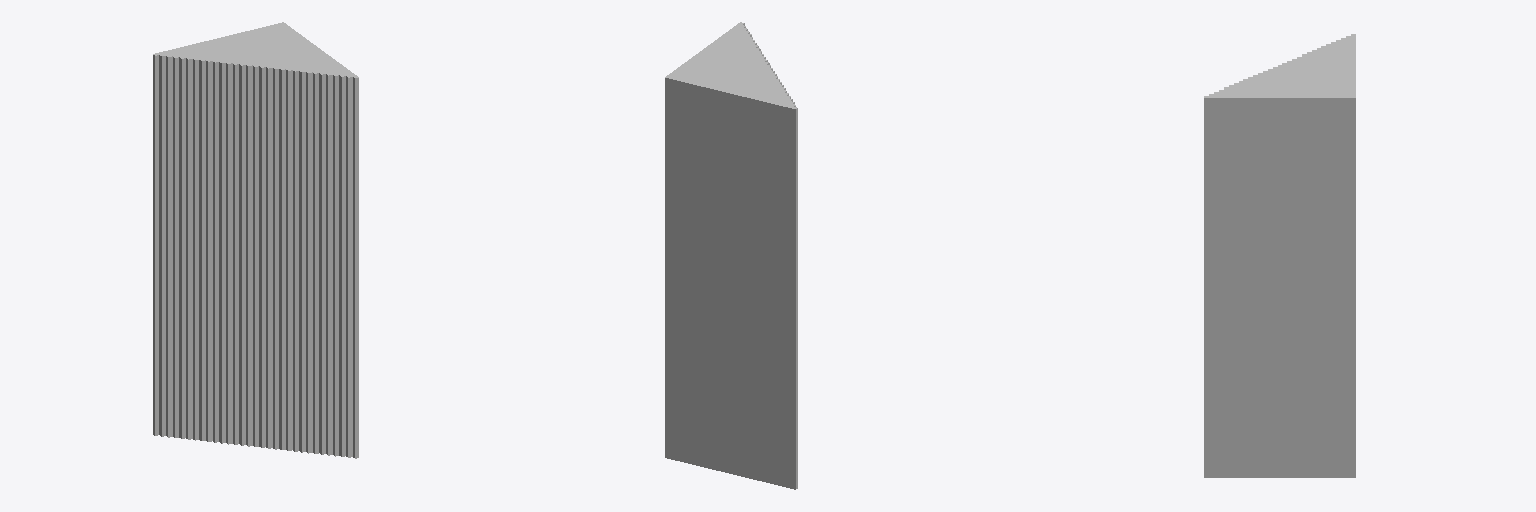
File: case_4.obj
3 views of the same model, side by side, from view 1: azimuth 30°, elevation 25°; view 2: azimuth 150°, elevation 25°; view 3: azimuth 270°, elevation 25° (orthographic).
Visible parts, largest first — view 1: Untitled; view 2: Untitled; view 3: Untitled.
Part boxes in pixels (left/top/right/bottom): Untitled: left=153, top=22, right=358, bottom=458; Untitled: left=665, top=22, right=797, bottom=489; Untitled: left=1204, top=34, right=1355, bottom=477.
Size of the model in its own units: 3.1 by 8.6 by 3.1.